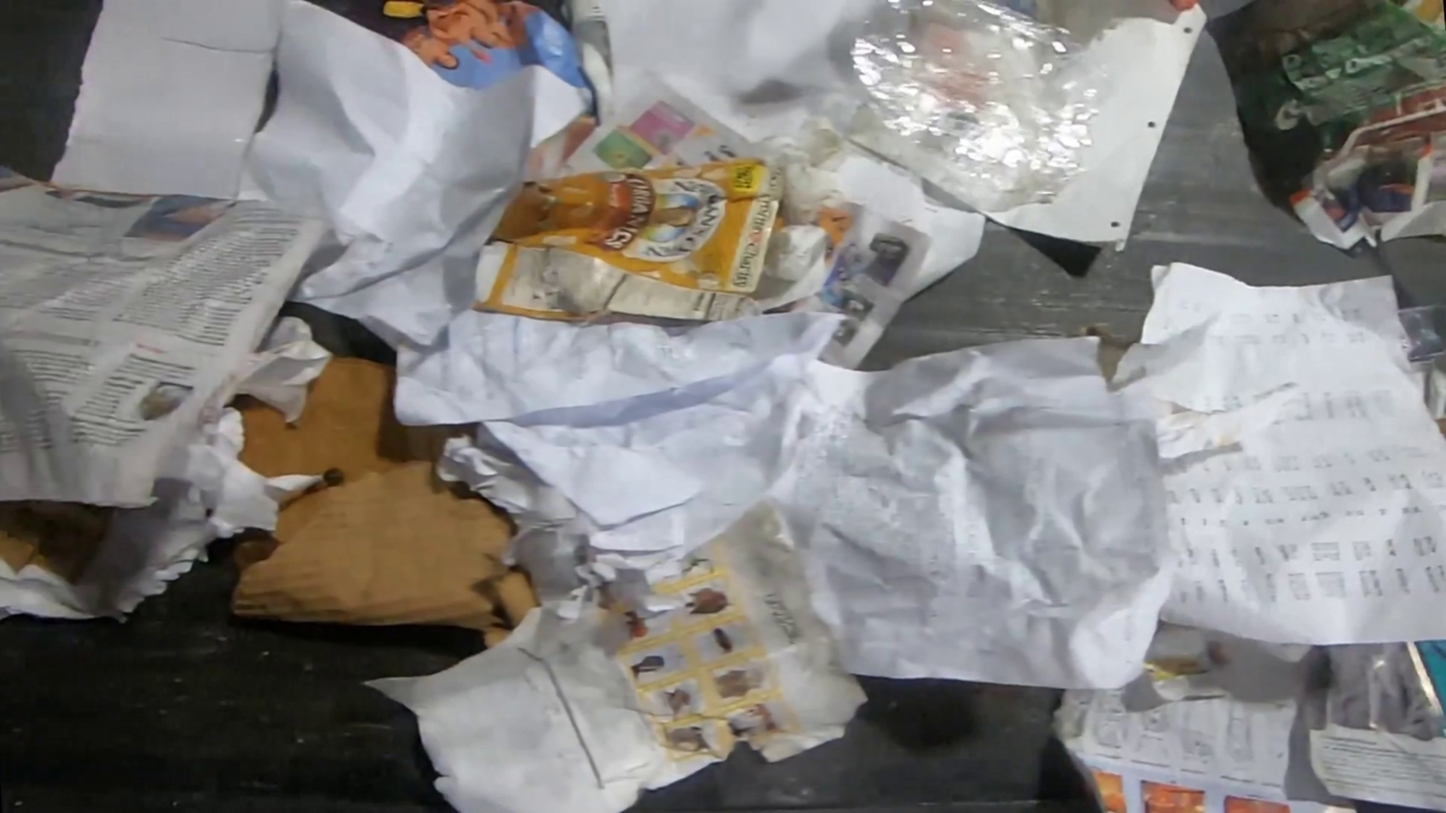cardboard: (220, 356, 546, 648), (470, 158, 788, 323)
plastic: (836, 0, 1117, 212)
